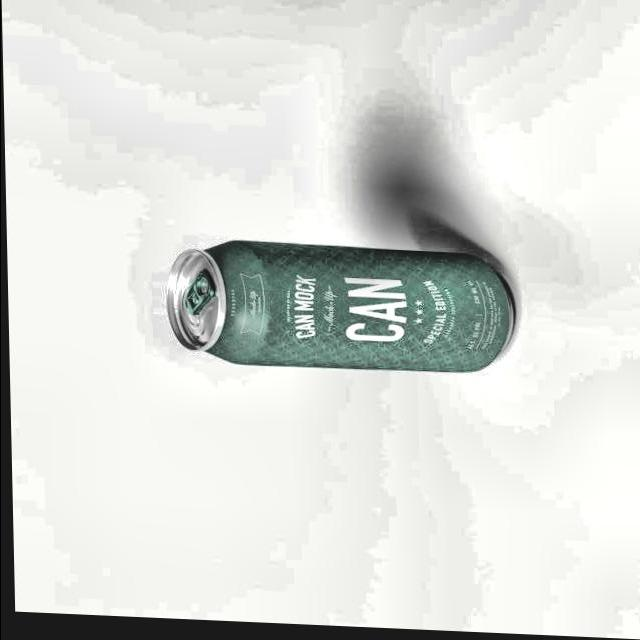litter: (158, 232, 520, 380)
